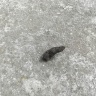Dog: (43, 46, 65, 59)
